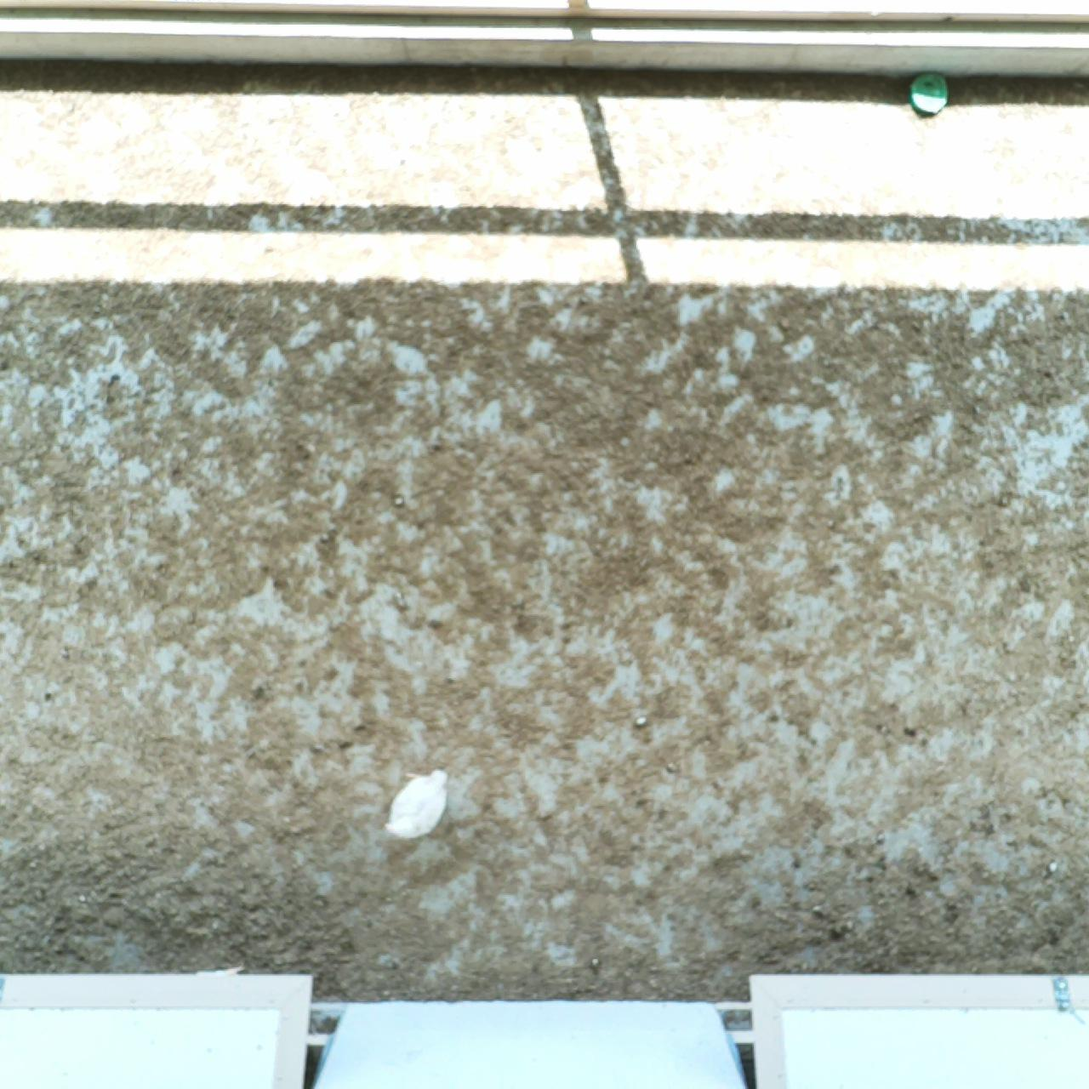chicken: (379, 765, 453, 844)
